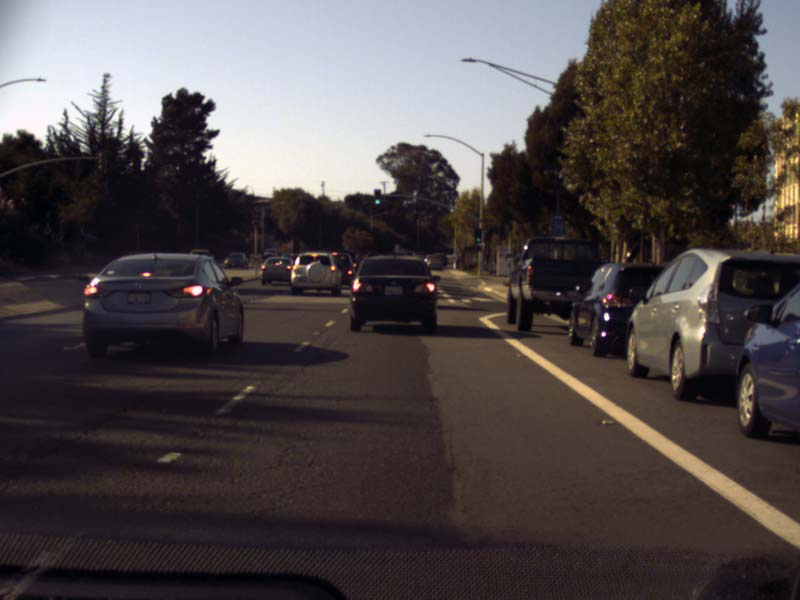Green: (373, 190, 380, 206), (475, 229, 481, 242)
